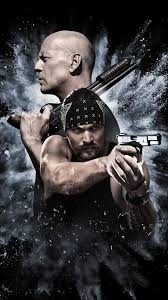pistol: (115, 130, 163, 161)
